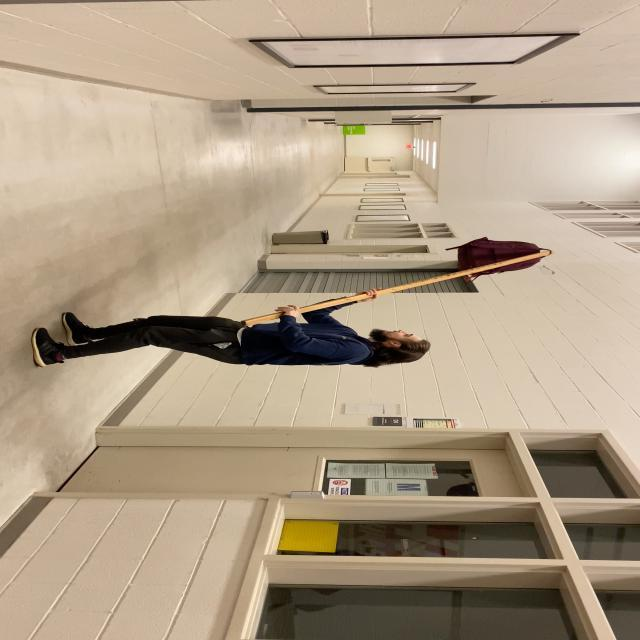Backpacks: (460, 239, 542, 274)
